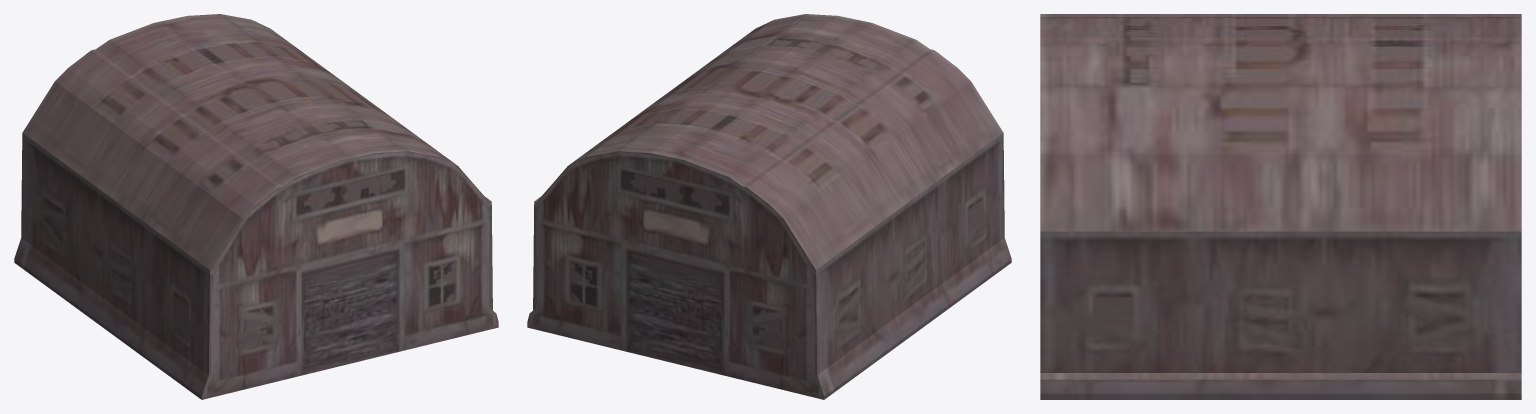
File: bg_industrial_hangar_1_lod1.glb
3 renders of one model, left to right at view 1: azimuth 30°, elevation 25°; view 2: azimuth 150°, elevation 25°; view 3: azimuth 270°, elevation 25°, orthographic. The views are drawn at different scales.
Visible parts, largest first — view 1: body; view 2: body; view 3: body.
Boxes of the visible parts, x1,y1,x2,y2 form: body: (14,14,498,399); body: (527,14,1011,399); body: (1040,14,1521,399).
Size of the model in its own units: 10 by 6.62 by 10.94.
1 material, 1 textured.
